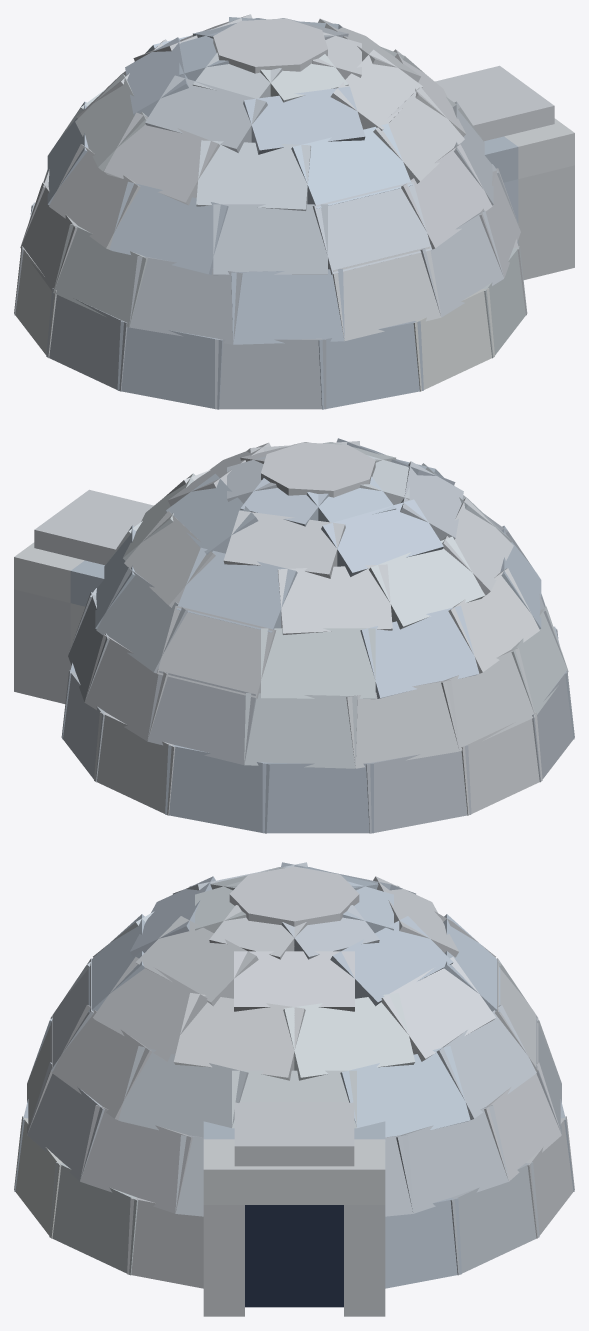
Rendered from igloo.glb.
3 views of the same model, one above another, from view 1: azimuth 30°, elevation 25°; view 2: azimuth 150°, elevation 25°; view 3: azimuth 270°, elevation 25° (orthographic). The views are drawn at different scales.
Visible parts, largest first — view 1: igloo; view 2: igloo; view 3: igloo.
Boxes of the visible parts, x1,y1,x2,y2 form: igloo: (14,14,574,409); igloo: (14,438,574,833); igloo: (14,862,574,1316).
Size of the model in its own units: 4.72 by 2.45 by 4.32.
